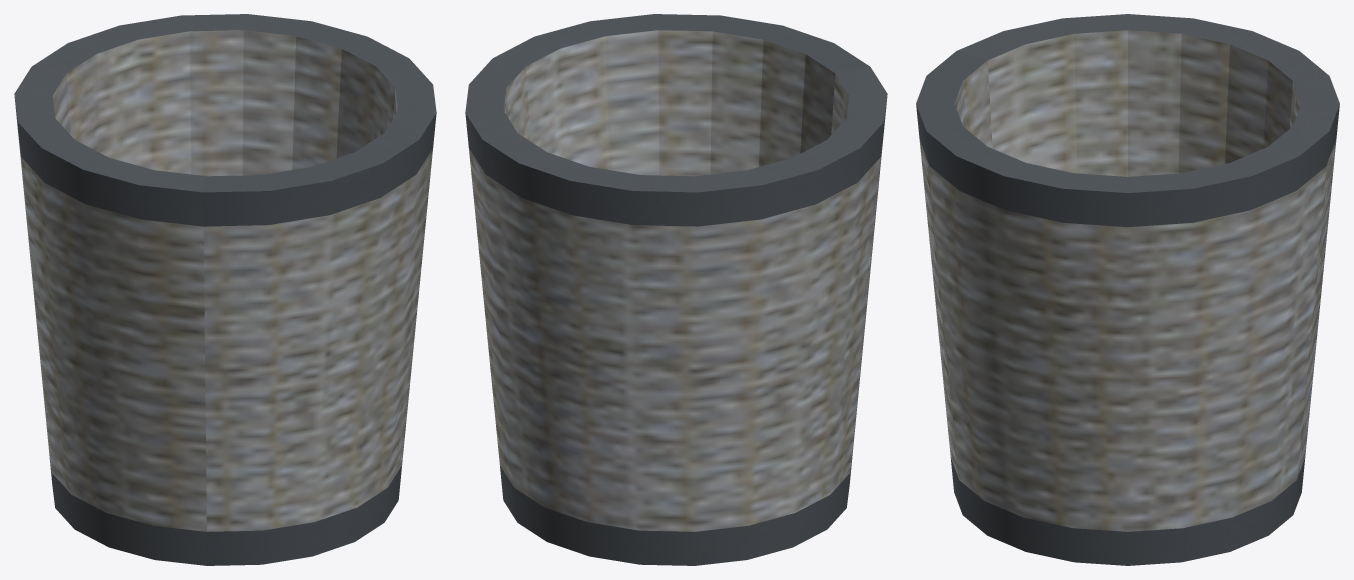
Rendered from laundry_basket.fbx.
3 renders of one model, left to right at view 1: azimuth 30°, elevation 25°; view 2: azimuth 150°, elevation 25°; view 3: azimuth 270°, elevation 25°, orthographic.
Parts seen in each view (by area): view 1: laundry_basket; view 2: laundry_basket; view 3: laundry_basket.
Part boxes in pixels (left/top/right/bottom): laundry_basket: left=14, top=14, right=436, bottom=565; laundry_basket: left=465, top=14, right=887, bottom=565; laundry_basket: left=916, top=14, right=1339, bottom=565.
Bounding box in the file's own units: 56.89 × 57.6 × 56.89.
Materials: 1 (1 with a texture image).
